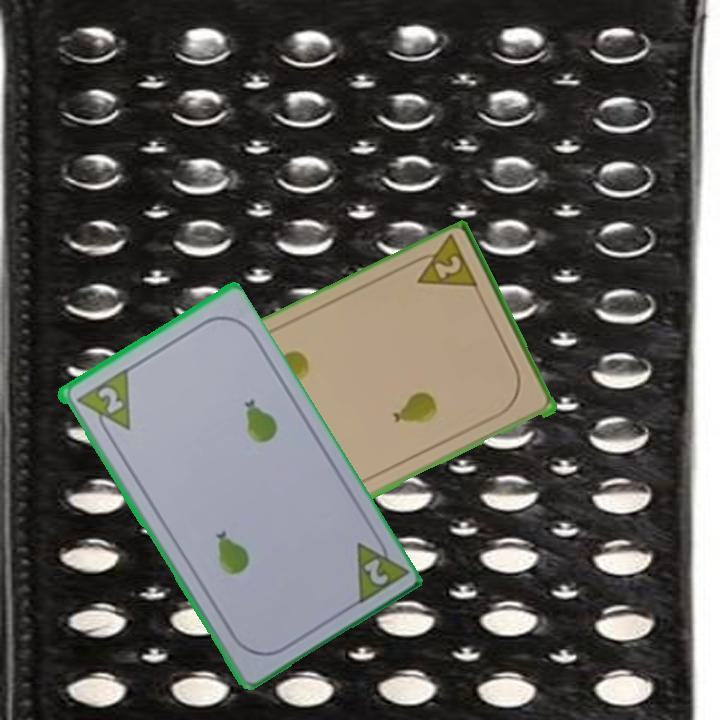2p: (405, 234, 482, 295), (93, 382, 126, 417), (359, 554, 391, 588)
